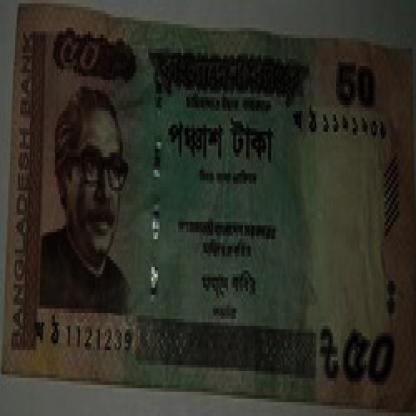Fifty taka: (331, 330, 403, 413), (50, 31, 108, 101)
